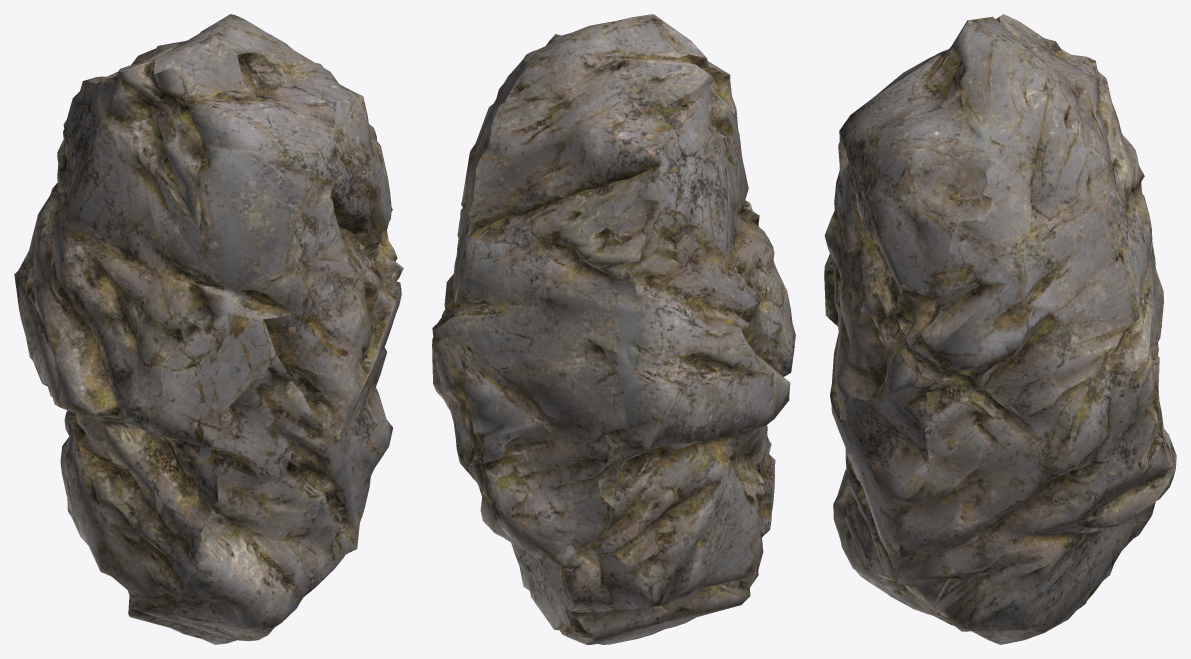
The model's file is SM_RockCastle02.FBX.
The picture shows the model from 3 angles, left to right: view 1: azimuth 30°, elevation 25°; view 2: azimuth 150°, elevation 25°; view 3: azimuth 270°, elevation 25°; orthographic projection. The views are drawn at different scales.
Visible parts, largest first — view 1: SM_RockCastle02; view 2: SM_RockCastle02; view 3: SM_RockCastle02.
Part boxes in pixels (<box>): SM_RockCastle02: <box>14,14,403,644</box>; SM_RockCastle02: <box>432,14,795,644</box>; SM_RockCastle02: <box>824,14,1176,644</box>.
Size of the model in its own units: 332 by 337 by 642.
